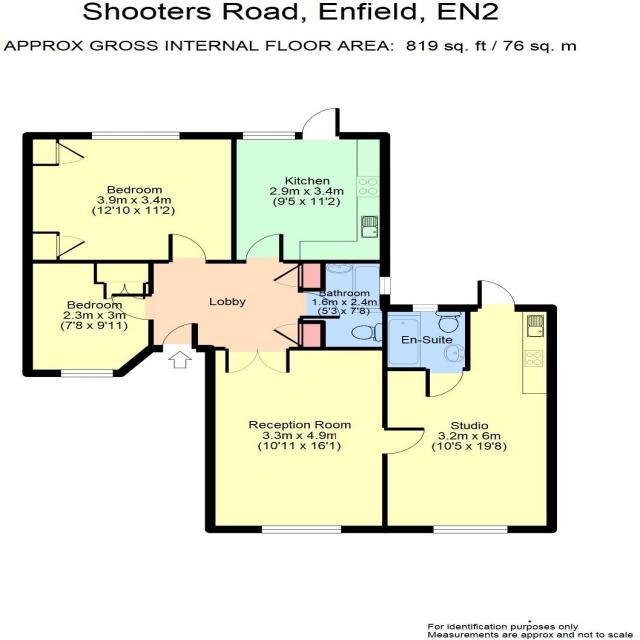DOOR: (475, 279, 516, 312), (301, 107, 341, 140), (297, 291, 342, 320), (381, 427, 426, 455), (424, 367, 464, 398), (167, 233, 207, 264), (245, 233, 285, 264), (111, 293, 154, 321), (161, 323, 199, 353)
ROOM: (381, 280, 557, 534), (207, 346, 428, 533), (22, 132, 237, 264), (231, 108, 391, 264), (22, 259, 155, 377)
WINDOW: (91, 131, 181, 140), (260, 525, 343, 534), (433, 525, 508, 534), (60, 368, 114, 378), (242, 131, 296, 141), (378, 276, 391, 295), (412, 304, 439, 312)
